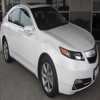Car: (1, 2, 99, 100)
